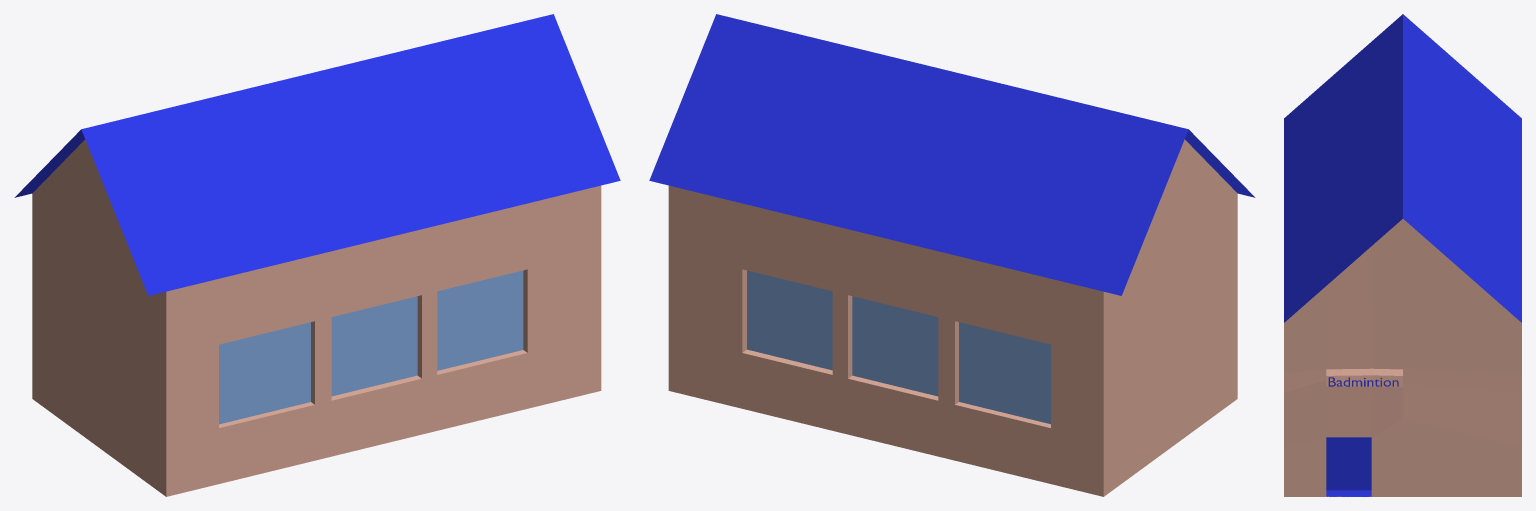
File: Badminton_Court.fbx
3 views of the same model, side by side, from view 1: azimuth 30°, elevation 25°; view 2: azimuth 150°, elevation 25°; view 3: azimuth 270°, elevation 25° (orthographic). The views are drawn at different scales.
Parts seen in each view (by area): view 1: Badminton_Court; view 2: Badminton_Court; view 3: Badminton_Court, Badmintion.
Part boxes in pixels (x1=…): Badminton_Court: x1=14, y1=14, x2=620, y2=496; Badminton_Court: x1=649, y1=14, x2=1255, y2=496; Badminton_Court: x1=1284, y1=14, x2=1521, y2=496; Badmintion: x1=1328, y1=377, x2=1398, y2=386.
Bounding box in the file's own units: 964 × 624 × 470.
